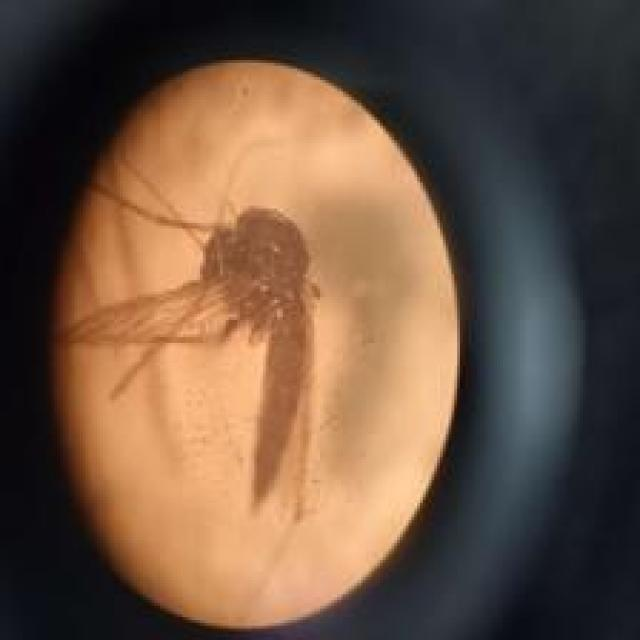Aedes albopictus: (50, 56, 464, 630)
